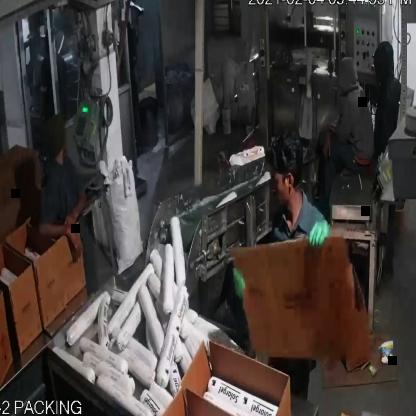glove: (305, 214, 331, 248)
no_glove: (32, 208, 90, 266), (58, 192, 96, 228), (319, 124, 336, 158)
